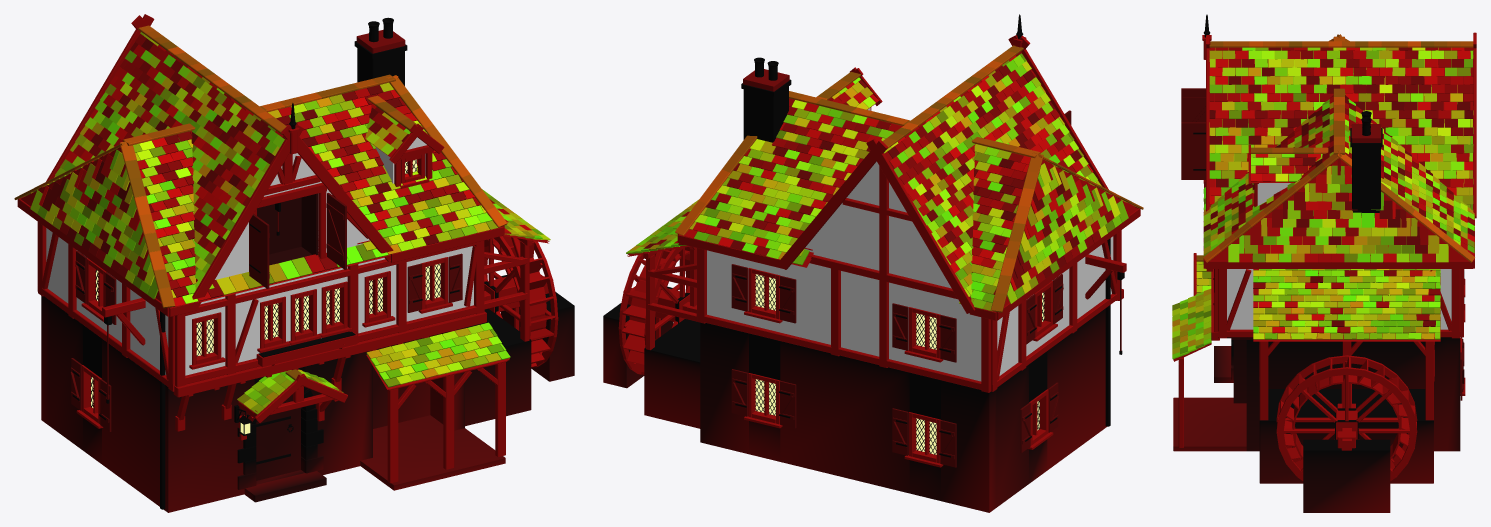
Rendered from SilverbrookMill.fbx.
3 views of the same model, side by side, from view 1: azimuth 30°, elevation 25°; view 2: azimuth 150°, elevation 25°; view 3: azimuth 270°, elevation 25° (orthographic). The views are drawn at different scales.
Parts seen in each view (by area): view 1: SM_SBMill_Roof, SM_SBMill_Timber, SM_SBMill_Masonry, SM_SBMill_Details, SM_SBMill_Plaster, SM_SBMill_Wheel; view 2: SM_SBMill_Roof, SM_SBMill_Masonry, SM_SBMill_Timber, SM_SBMill_Plaster, SM_SBMill_Details, SM_SBMill_Wheel; view 3: SM_SBMill_Roof, SM_SBMill_Masonry, SM_SBMill_Timber, SM_SBMill_Wheel, SM_SBMill_Details, SM_SBMill_Plaster.
Part boxes in pixels (bbox=[...]): SM_SBMill_Roof: bbox=[14, 25, 550, 414]; SM_SBMill_Timber: bbox=[17, 14, 548, 483]; SM_SBMill_Masonry: bbox=[41, 29, 574, 512]; SM_SBMill_Details: bbox=[70, 17, 462, 509]; SM_SBMill_Plaster: bbox=[46, 137, 473, 375]; SM_SBMill_Wheel: bbox=[484, 236, 558, 367]; SM_SBMill_Roof: bbox=[626, 45, 1143, 312]; SM_SBMill_Masonry: bbox=[603, 69, 1107, 512]; SM_SBMill_Timber: bbox=[627, 35, 1140, 467]; SM_SBMill_Plaster: bbox=[707, 108, 1113, 381]; SM_SBMill_Details: bbox=[731, 14, 1124, 467]; SM_SBMill_Wheel: bbox=[618, 247, 689, 374]; SM_SBMill_Roof: bbox=[1172, 34, 1474, 361]; SM_SBMill_Masonry: bbox=[1173, 124, 1460, 512]; SM_SBMill_Timber: bbox=[1178, 32, 1476, 448]; SM_SBMill_Wheel: bbox=[1276, 355, 1417, 481]; SM_SBMill_Details: bbox=[1181, 14, 1464, 400]; SM_SBMill_Plaster: bbox=[1227, 183, 1451, 329].
Bounding box in the file's own units: 1150 × 893 × 699.
